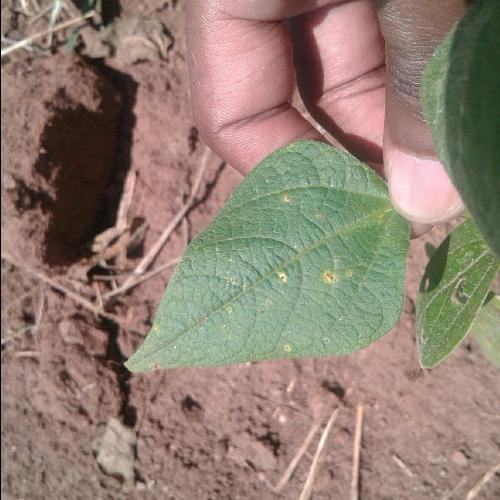mozaik: (232, 190, 384, 341)
